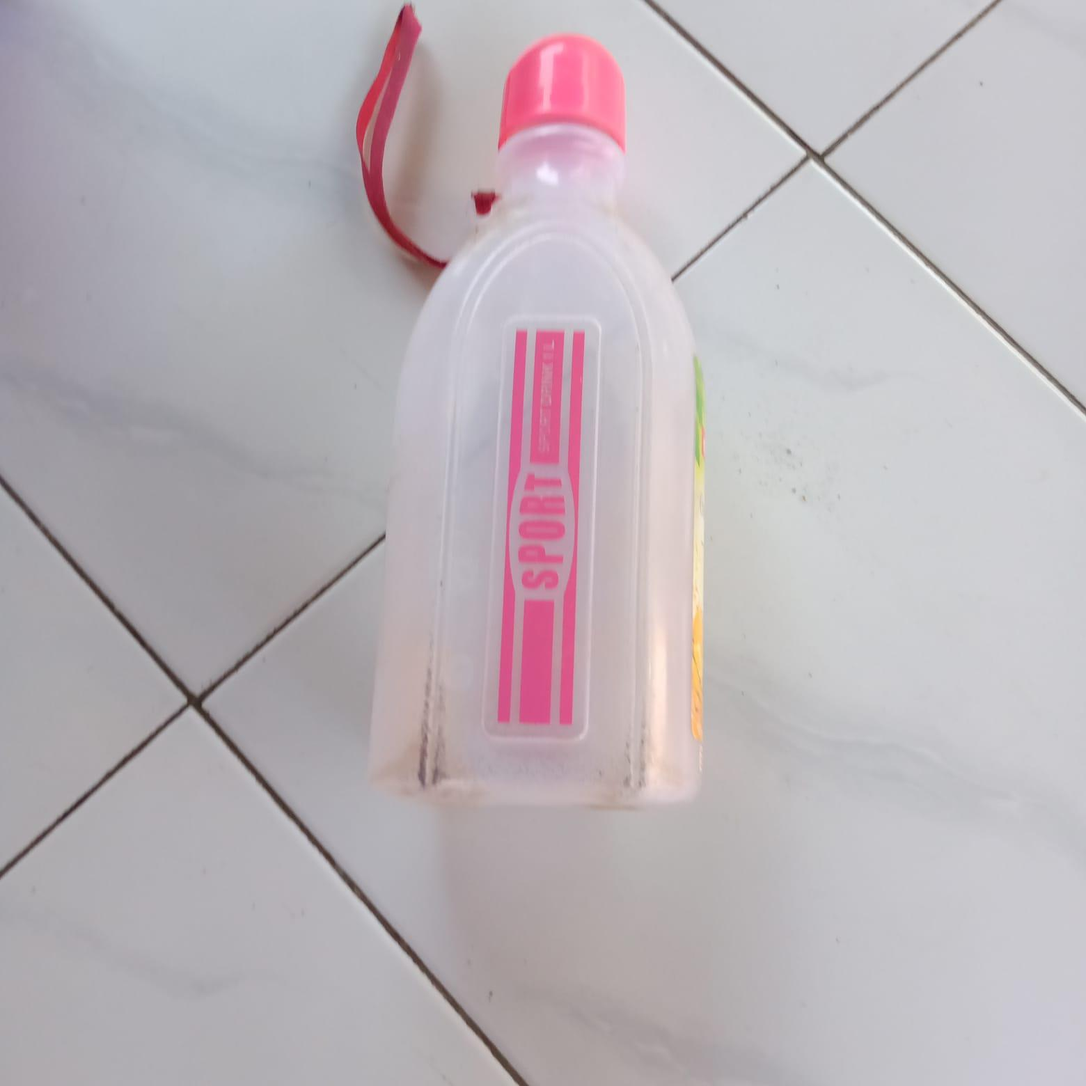Plastik: (370, 37, 706, 810)
